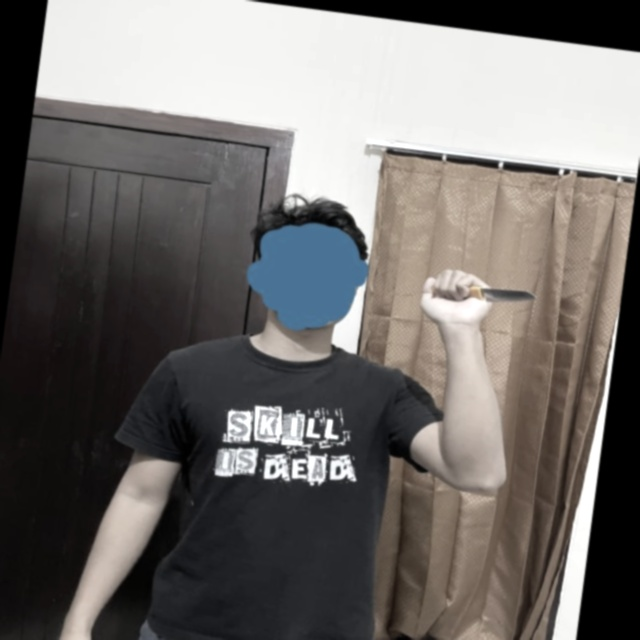Sharp-Object: (430, 277, 538, 309)
